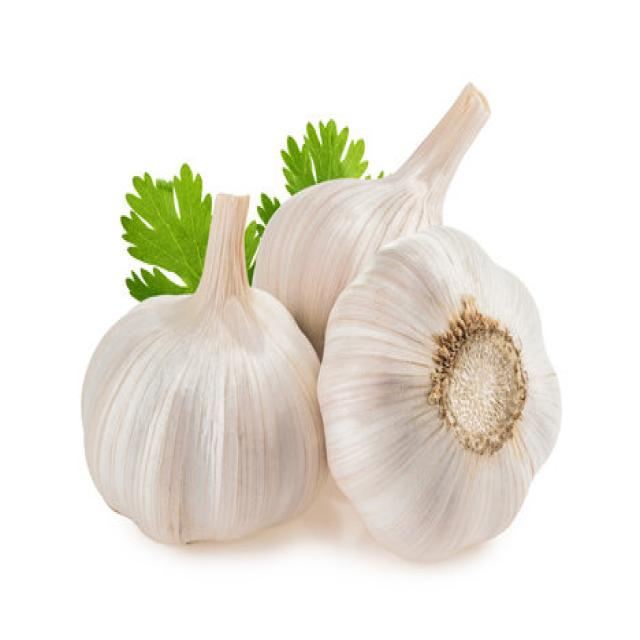garlic: (320, 239, 578, 564), (67, 259, 332, 569)
